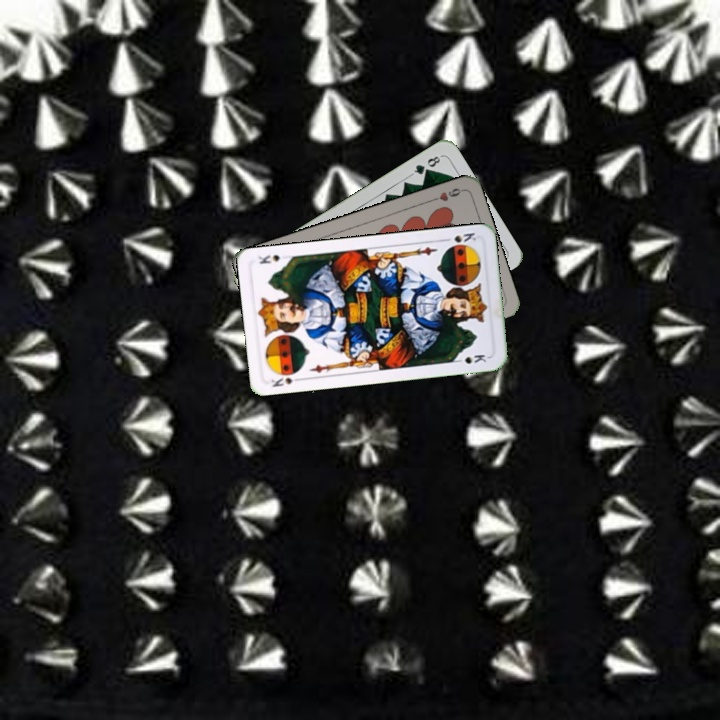G8: (407, 152, 444, 178)
H9: (426, 184, 465, 204)
SK: (439, 229, 478, 245), (267, 373, 305, 389)
